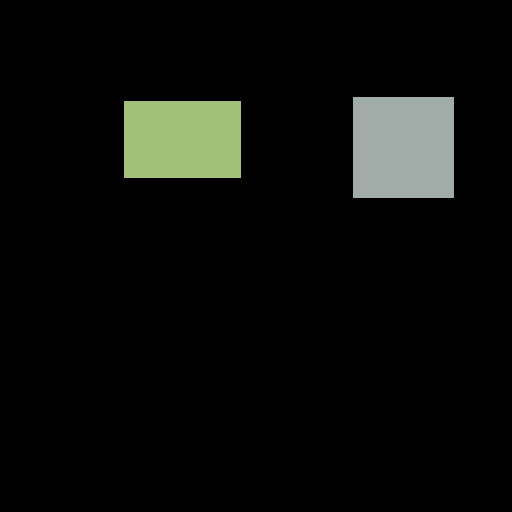rectangle: (124, 101, 240, 177)
square: (353, 97, 453, 197)
